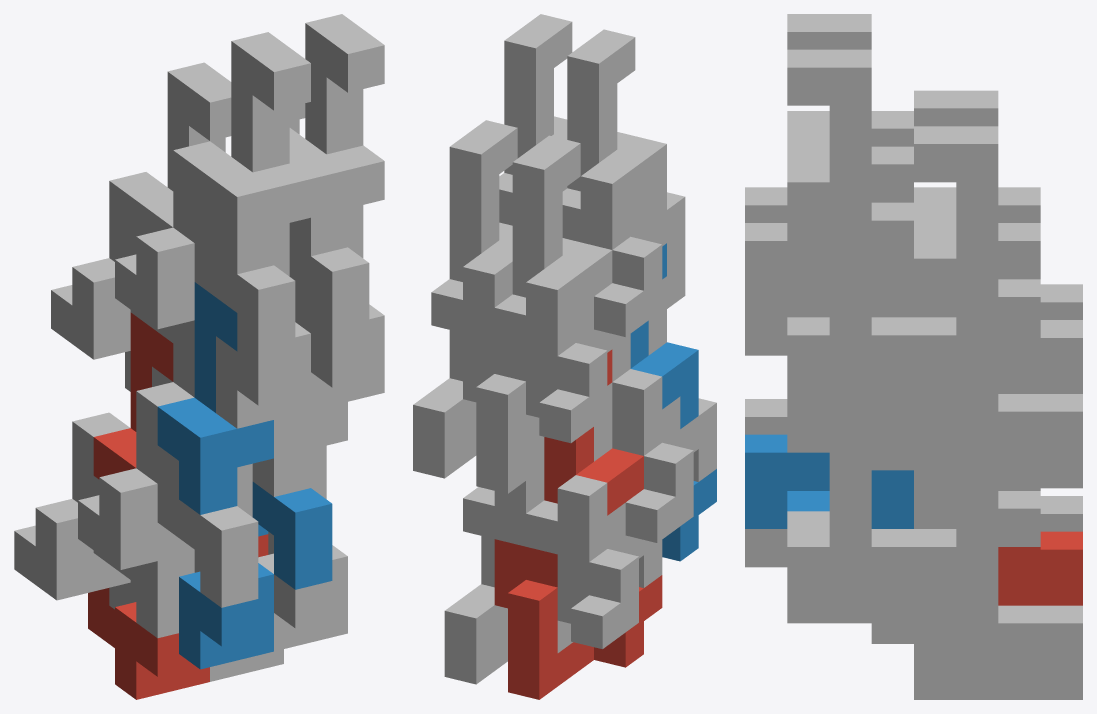
File: tiling.obj
The picture shows the model from 3 angles, left to right: view 1: azimuth 30°, elevation 25°; view 2: azimuth 150°, elevation 25°; view 3: azimuth 270°, elevation 25°; orthographic projection. The views are drawn at different scales.
Visible parts, largest first — view 1: copy_4_domain_4, copy_4_domain_8, copy_2_domain_2, copy_2_domain_4, copy_4_domain_2, copy_2_domain_1, copy_2_domain_3, copy_4_domain_3, copy_1_domain_2, copy_1_domain_4, copy_1_domain_1, copy_2_domain_6 (+12 smaller); view 2: copy_4_domain_4, copy_4_domain_3, copy_2_domain_1, copy_4_domain_7, copy_2_domain_3, copy_2_domain_2, copy_2_domain_4, copy_4_domain_8, copy_1_domain_1, copy_3_domain_1, copy_3_domain_3, copy_3_domain_7 (+13 smaller); view 3: copy_1_domain_6, copy_3_domain_8, copy_4_domain_8, copy_4_domain_7, copy_3_domain_7, copy_1_domain_8, copy_1_domain_7, copy_1_domain_5, copy_3_domain_5, copy_3_domain_6, copy_2_domain_8, copy_2_domain_6 (+15 smaller).
Part boxes in pixels (x1,y1,x2,y2): copy_4_domain_4: (194,32,310,274); copy_4_domain_8: (289,14,384,256); copy_2_domain_2: (78,468,258,607); copy_2_domain_4: (115,227,295,366); copy_4_domain_2: (157,282,273,514); copy_2_domain_1: (14,498,194,638); copy_2_domain_3: (51,258,194,397); copy_4_domain_3: (130,62,231,238); copy_1_domain_2: (179,563,273,669); copy_1_domain_4: (216,322,310,428); copy_1_domain_1: (88,588,209,699); copy_2_domain_6: (252,482,332,589); copy_4_domain_4: (567,29,666,222); copy_4_domain_3: (512,135,612,309); copy_2_domain_1: (557,535,662,649); copy_4_domain_7: (449,120,517,281); copy_2_domain_3: (526,329,630,443); copy_2_domain_2: (625,398,716,542); copy_2_domain_4: (594,192,685,336); copy_4_domain_8: (504,14,572,174); copy_1_domain_1: (508,575,662,699); copy_3_domain_1: (526,475,625,652); copy_3_domain_3: (494,269,593,447); copy_3_domain_7: (431,253,512,431); copy_1_domain_6: (745,511,956,623); copy_3_domain_8: (829,146,913,373); copy_4_domain_8: (787,49,871,240); copy_4_domain_7: (914,126,998,317); copy_3_domain_7: (956,223,1040,449); copy_1_domain_8: (745,317,956,411); copy_1_domain_7: (871,394,1082,488); copy_1_domain_5: (871,605,1082,699); copy_3_domain_5: (956,488,1040,661); copy_3_domain_6: (829,432,913,585); copy_2_domain_8: (745,223,913,317); copy_2_domain_6: (745,434,913,528).
Size of the model in its own units: 6 by 17 by 8.
